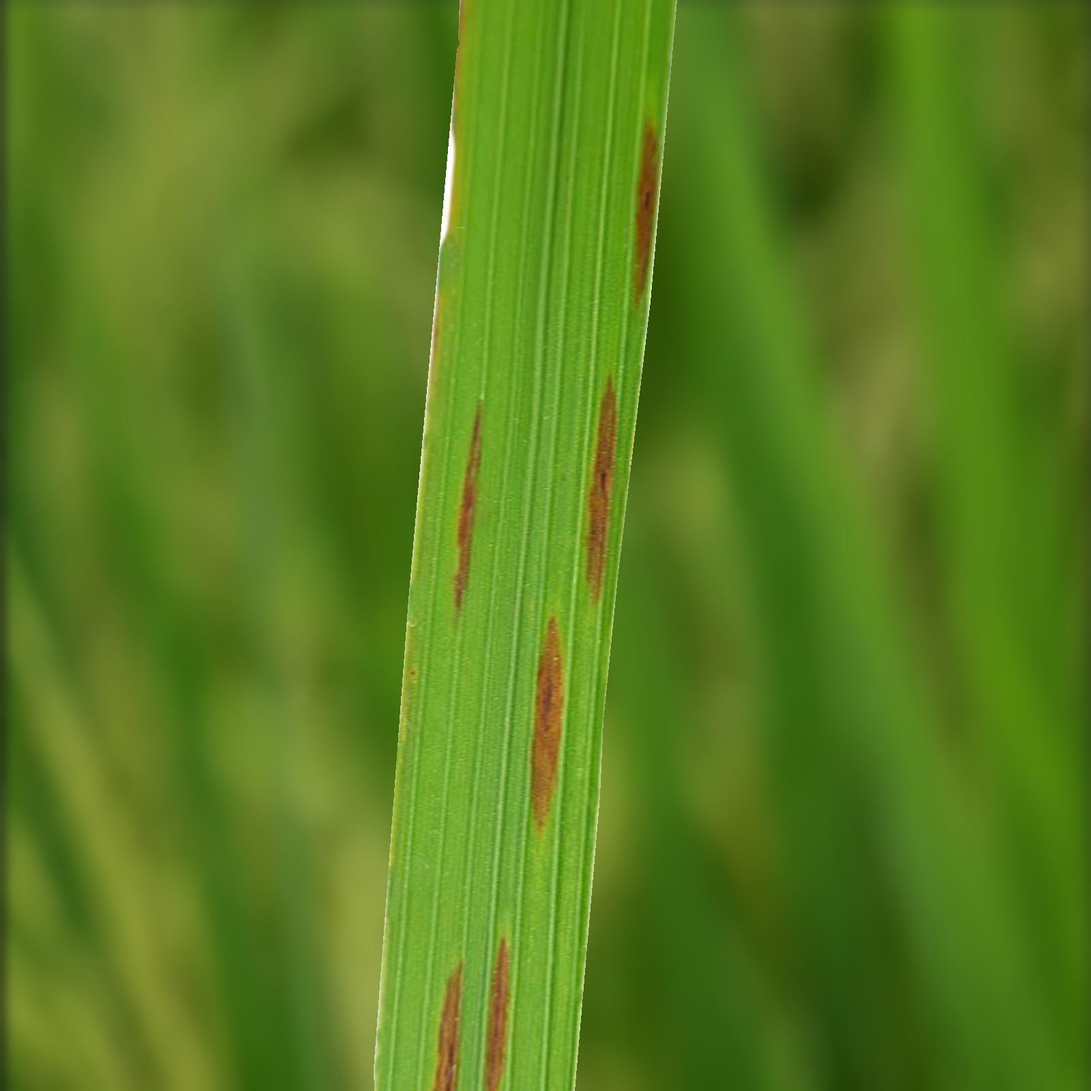LEAF: (374, 0, 676, 1090)
NBS: (531, 616, 563, 833), (587, 379, 617, 602), (453, 402, 483, 615), (635, 121, 658, 303), (432, 963, 463, 1090), (485, 936, 509, 1090)
